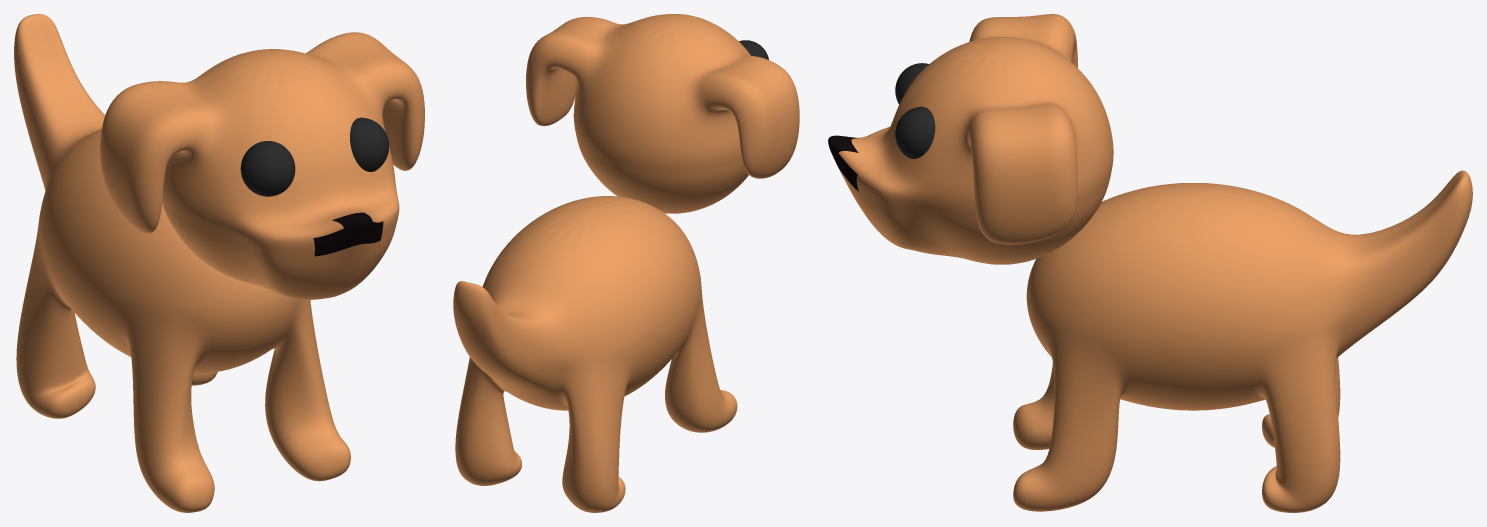
Rendered from dog.glb.
The picture shows the model from 3 angles, left to right: view 1: azimuth 30°, elevation 25°; view 2: azimuth 150°, elevation 25°; view 3: azimuth 270°, elevation 25°; orthographic projection. The views are drawn at different scales.
Parts seen in each view (by area): view 1: 球, 球.001; view 2: 球; view 3: 球, 球.001.
Boxes of the visible parts, x1,y1,x2,y2 form: 球: (14, 14, 424, 512); 球.001: (240, 117, 388, 196); 球: (453, 14, 799, 512); 球: (828, 14, 1472, 512); 球.001: (895, 63, 935, 158).
Size of the model in its own units: 0.8322 by 1.22 by 1.65.
